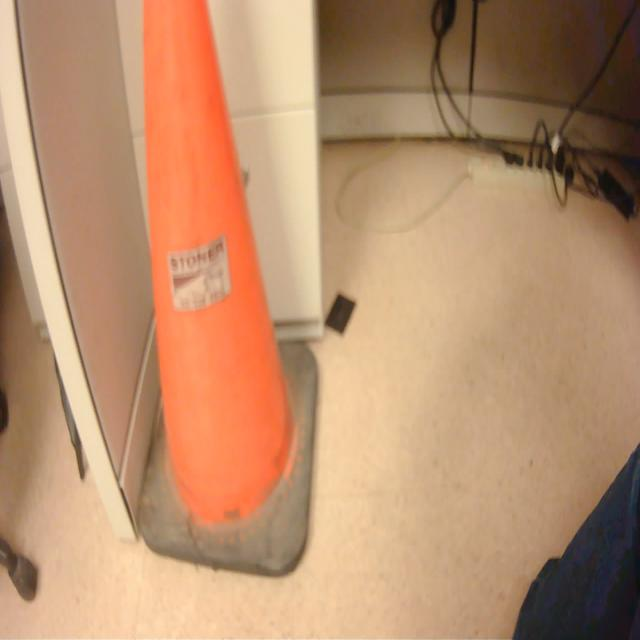traffic cone: (126, 2, 327, 586)
